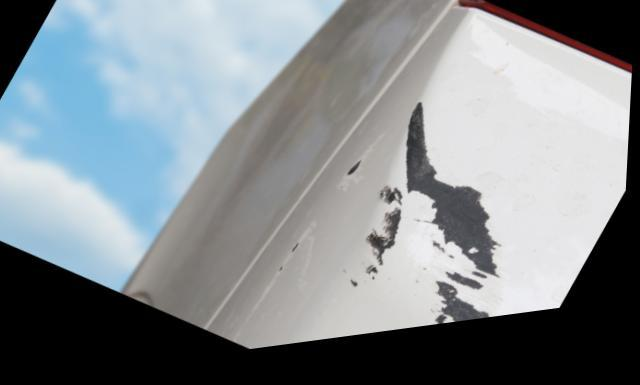scratch: (343, 104, 517, 337), (231, 161, 375, 355)
